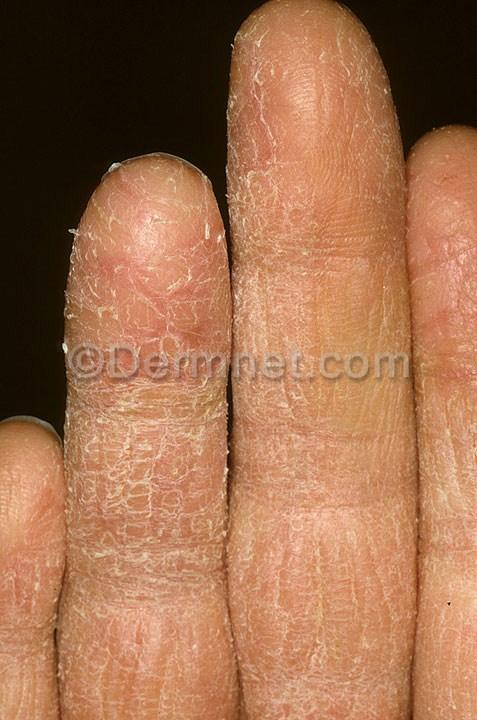Eczema: (236, 536, 419, 717), (71, 389, 217, 598), (247, 35, 379, 249), (236, 389, 408, 517), (101, 199, 219, 336), (246, 263, 399, 345)
